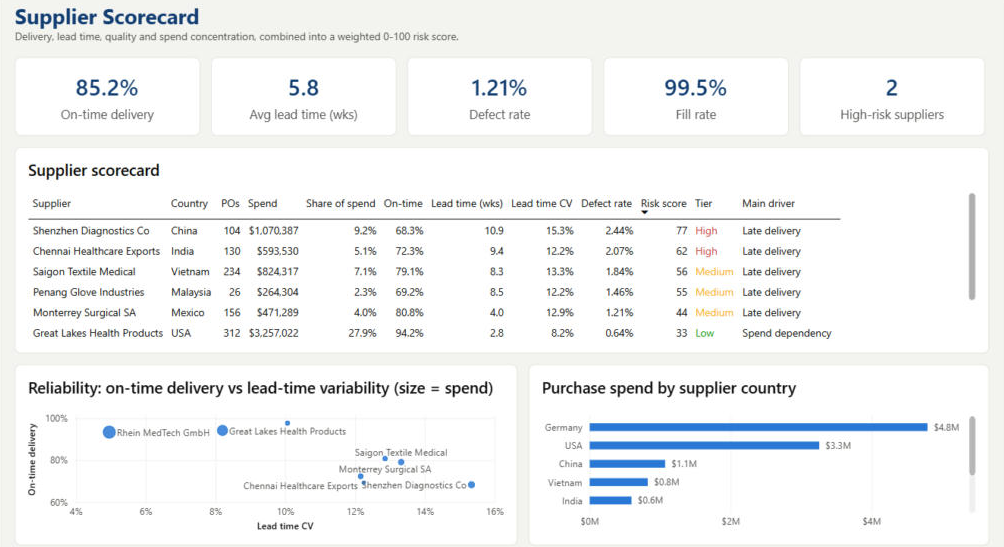

What the dashboard file says about the page in this screenshot:
{"tool":"powerbi","page":{"name":"Supplier Scorecard","canvas":[1280,720],"ordinal":2},"visuals":[{"type":"textbox","box":[20,8,1240,64],"z":22000},{"type":"card","fields":{"Values":["_Measures.On-Time Delivery %"]},"box":[20,80,236,100],"z":23000},{"type":"card","fields":{"Values":["_Measures.Avg Lead Time Wks"]},"box":[270,80,236,100],"z":24000},{"type":"card","fields":{"Values":["_Measures.Defect Rate"]},"box":[520,80,236,100],"z":25000},{"type":"card","fields":{"Values":["_Measures.Fill Rate"]},"box":[770,80,236,100],"z":26000},{"type":"card","fields":{"Values":["_Measures.High-Risk Suppliers"]},"box":[1020,80,236,100],"z":27000},{"type":"tableEx","title":"Supplier scorecard","fields":{"Values":["suppliers.supplier_name","suppliers.country","_Measures.PO Count","_Measures.PO Spend","_Measures.Share of Spend","_Measures.On-Time Delivery %","_Measures.Avg Lead Time Wks","_Measures.Lead Time CV","_Measures.Defect Rate","_Measures.Risk Score","_Measures.Risk Tier","_Measures.Main Risk Driver"]},"box":[20,194,1240,262],"z":28000},{"type":"scatterChart","title":"Reliability: on-time delivery vs lead-time variability (size = spend)","fields":{"Category":["suppliers.supplier_name"],"Size":["_Measures.PO Spend"],"X":["_Measures.Lead Time CV"],"Y":["_Measures.On-Time Delivery %"]},"box":[20,470,640,230],"z":29000},{"type":"clusteredBarChart","title":"Purchase spend by supplier country","fields":{"Category":["suppliers.country"],"Y":["_Measures.PO Spend"]},"box":[674,470,586,230],"z":30000}]}

Visuals, with their boxes on the page's 1280x720 design canvas (x1, y1, x2, y2). These are canvas units, not pixel positions in the 1004x547 screenshot, which may show the page scaled, cropped or inside an application window:
textbox: bbox(20, 8, 1260, 72)
card - _Measures.On-Time Delivery %: bbox(20, 80, 256, 180)
card - _Measures.Avg Lead Time Wks: bbox(270, 80, 506, 180)
card - _Measures.Defect Rate: bbox(520, 80, 756, 180)
card - _Measures.Fill Rate: bbox(770, 80, 1006, 180)
card - _Measures.High-Risk Suppliers: bbox(1020, 80, 1256, 180)
"Supplier scorecard" tableEx: bbox(20, 194, 1260, 456)
"Reliability: on-time delivery vs lead-time variability (size = spend)" scatterChart: bbox(20, 470, 660, 700)
"Purchase spend by supplier country" clusteredBarChart: bbox(674, 470, 1260, 700)
